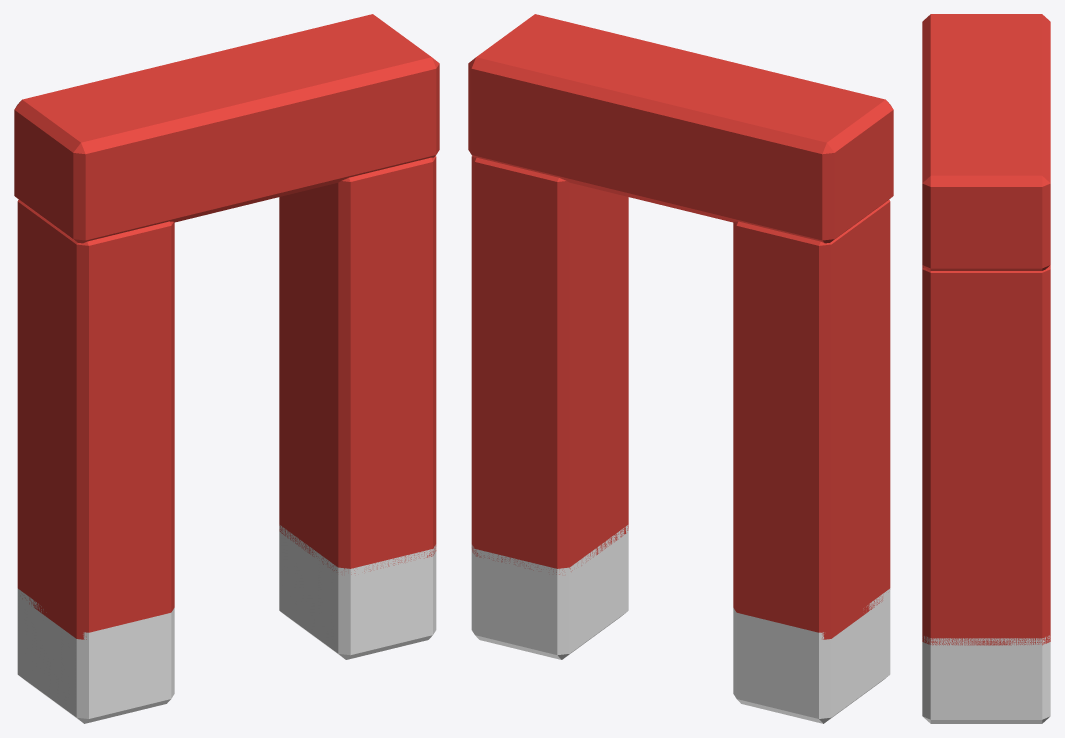
File: horseshoe_magnet.glb
3 views of the same model, side by side, from view 1: azimuth 30°, elevation 25°; view 2: azimuth 150°, elevation 25°; view 3: azimuth 270°, elevation 25° (orthographic). The views are drawn at different scales.
Parts seen in each view (by area): view 1: horseshoe_magnet; view 2: horseshoe_magnet; view 3: horseshoe_magnet.
Part boxes in pixels (bbox=[...]): horseshoe_magnet: bbox=[14, 14, 439, 723]; horseshoe_magnet: bbox=[468, 14, 893, 723]; horseshoe_magnet: bbox=[922, 14, 1050, 723].
Size of the model in its own units: 0.28 by 0.425 by 0.09.
